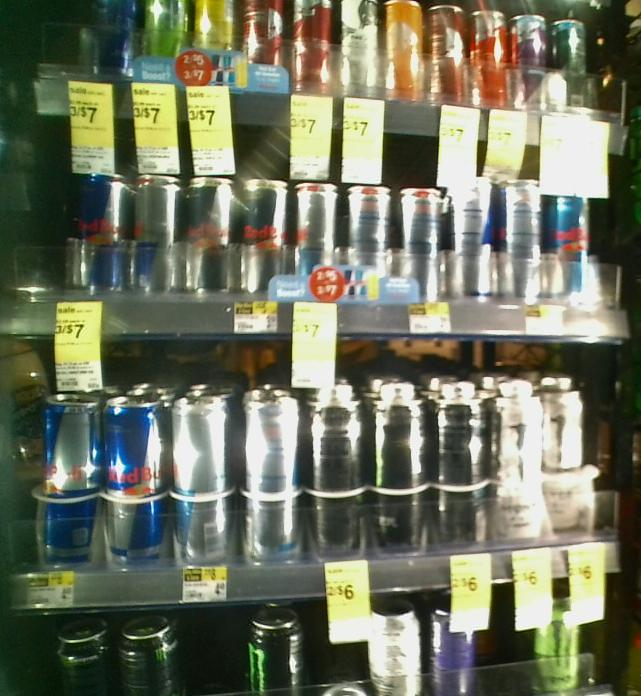bottle: (102, 386, 171, 571), (34, 380, 100, 573), (301, 370, 361, 557), (369, 378, 429, 560), (241, 384, 298, 566), (175, 396, 235, 567), (432, 374, 488, 551), (493, 371, 543, 548), (540, 371, 593, 525), (182, 164, 235, 297), (242, 165, 290, 301), (500, 162, 545, 304), (342, 172, 391, 299), (132, 164, 178, 294), (396, 173, 442, 302), (550, 175, 595, 304), (80, 167, 126, 291), (297, 163, 338, 295), (451, 173, 491, 298)
